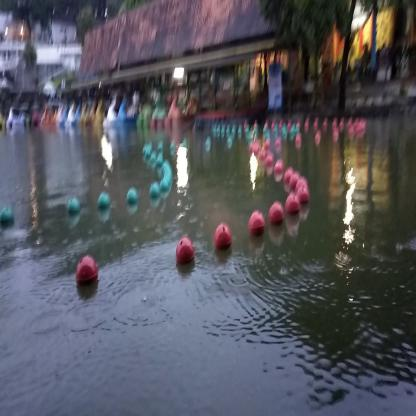green_buoy: (0, 206, 15, 229), (97, 194, 110, 212), (126, 188, 138, 206), (67, 198, 79, 216), (160, 177, 171, 192), (150, 184, 160, 198), (156, 154, 162, 166)
red_buoy: (76, 257, 98, 287), (177, 240, 194, 267), (269, 204, 285, 227), (216, 225, 230, 251), (288, 194, 300, 218), (296, 187, 310, 207), (248, 214, 262, 234), (288, 175, 302, 192), (284, 168, 294, 188), (275, 162, 284, 179)
